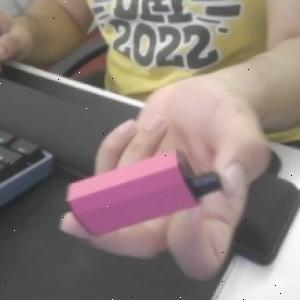Blume-E-Ciggirate: (66, 151, 222, 239)
